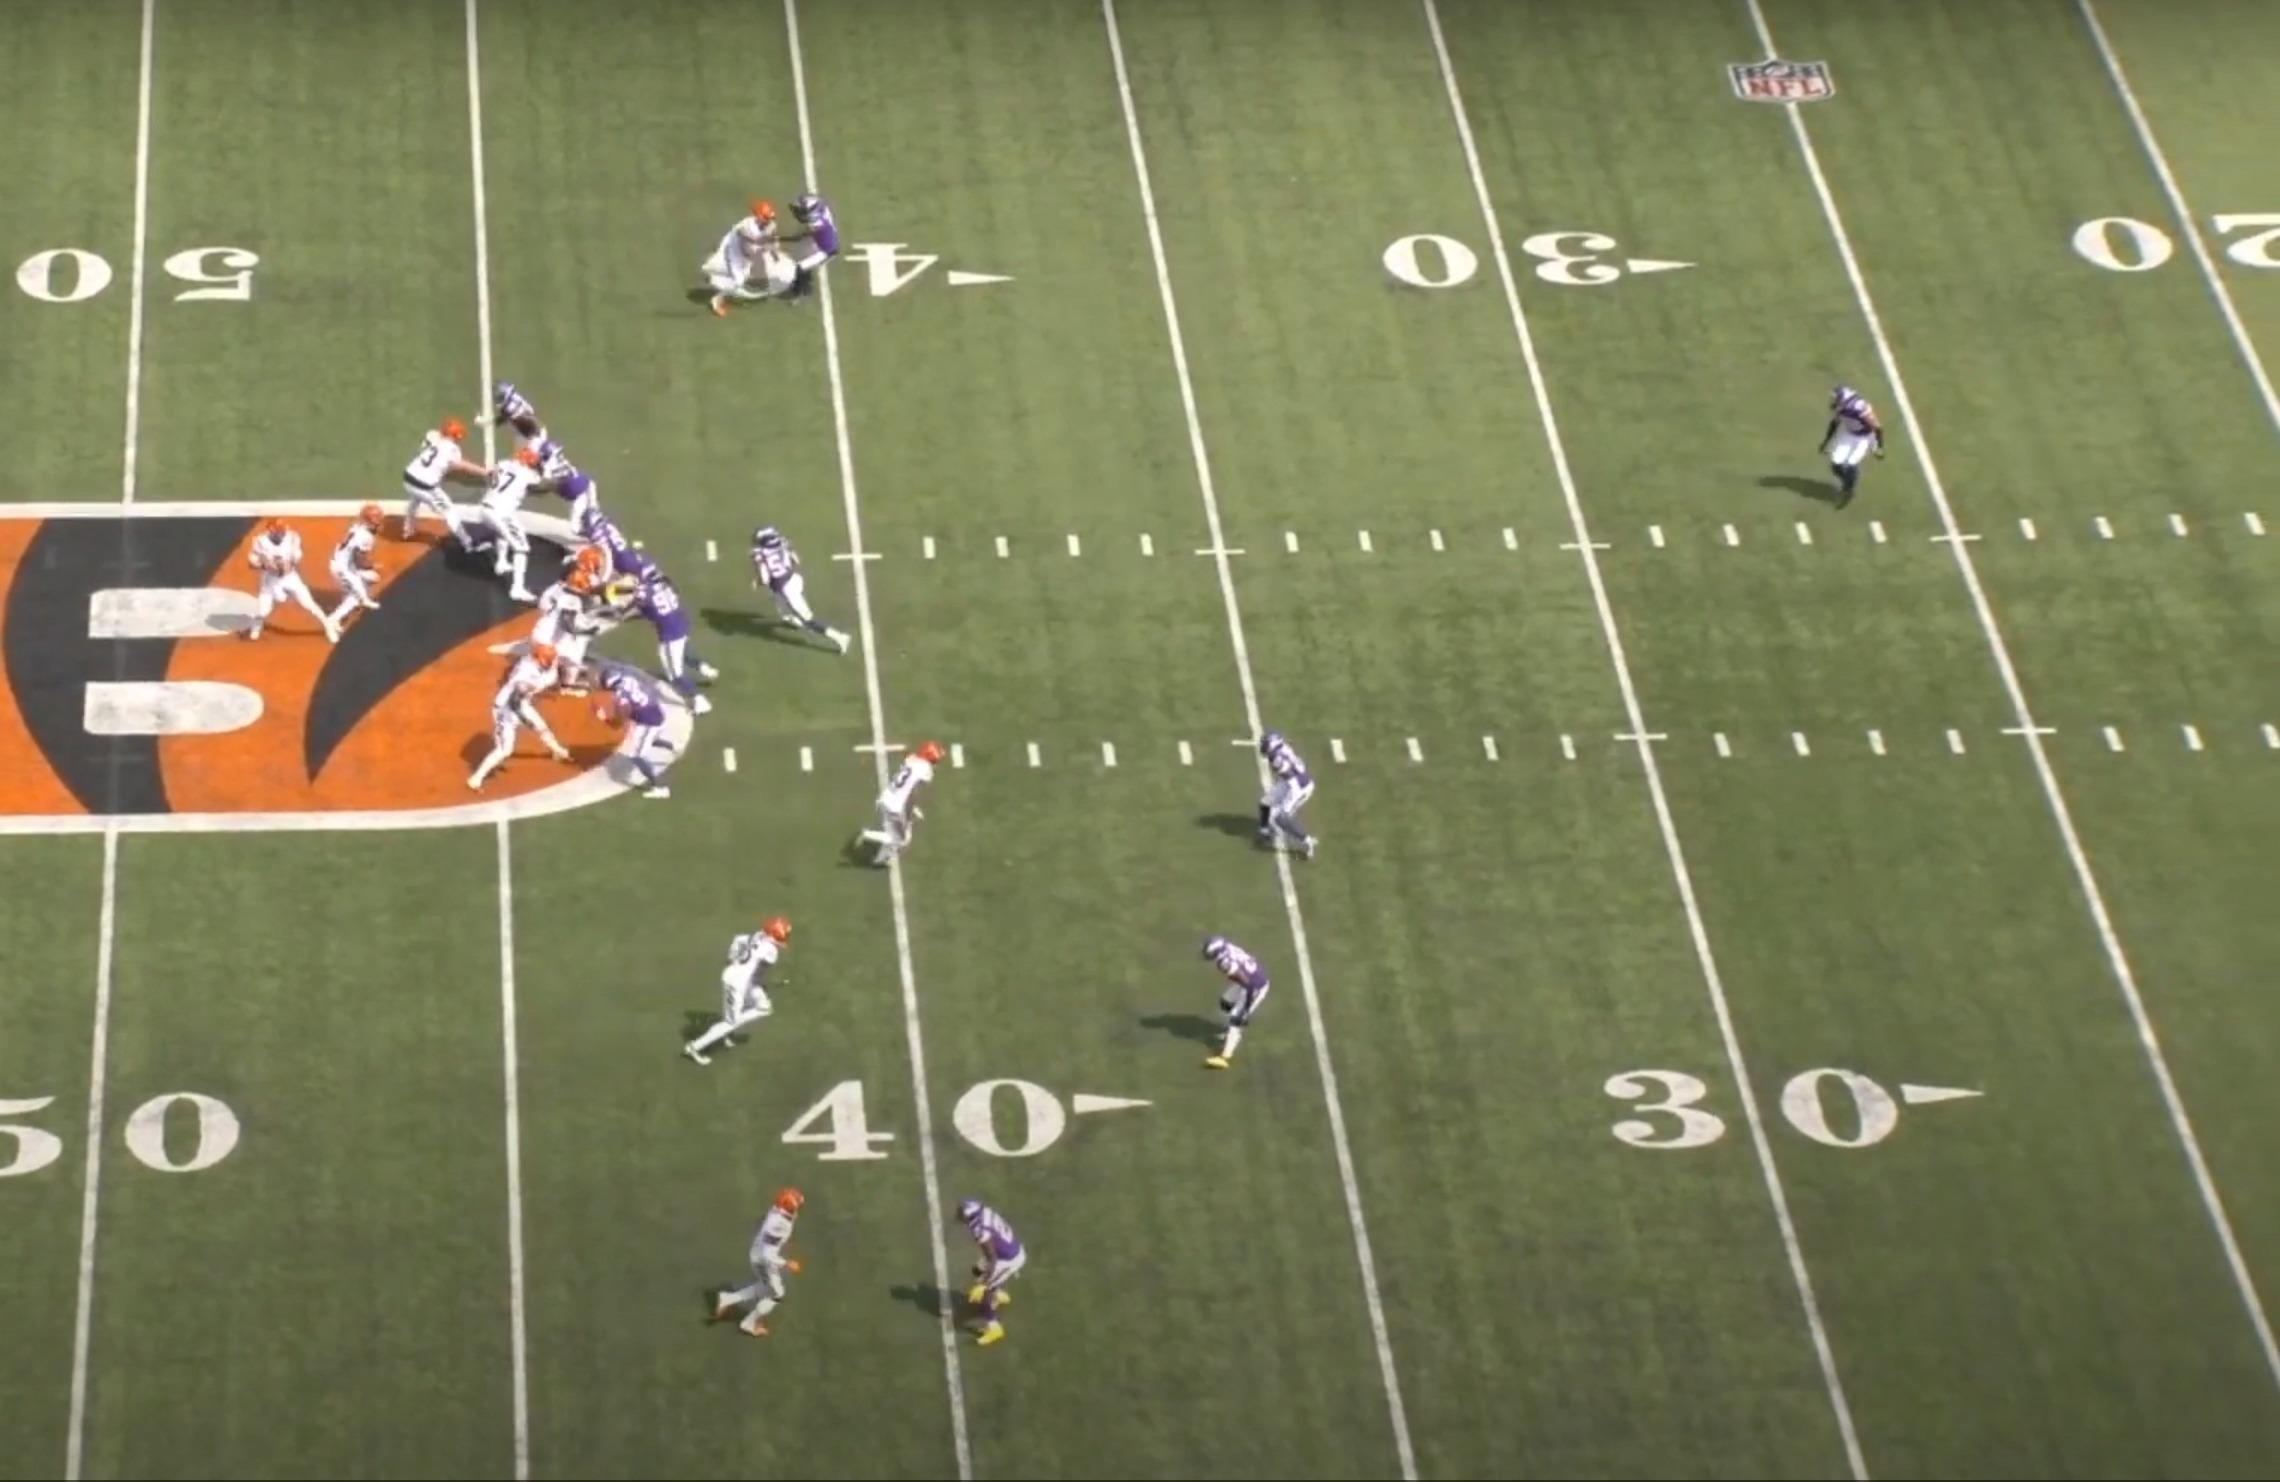player: (683, 907, 802, 1071), (709, 1177, 817, 1341), (614, 556, 719, 722), (740, 517, 850, 661), (846, 737, 955, 877), (463, 644, 564, 793), (600, 656, 693, 809), (462, 443, 551, 599), (951, 1187, 1034, 1351), (237, 520, 333, 652), (1194, 926, 1278, 1075), (1243, 724, 1325, 874), (702, 196, 794, 322), (405, 413, 485, 549), (539, 431, 622, 561), (1823, 378, 1892, 516), (318, 506, 387, 643), (530, 572, 599, 709), (783, 192, 843, 311), (569, 506, 650, 582), (484, 375, 545, 471), (563, 547, 606, 672)
